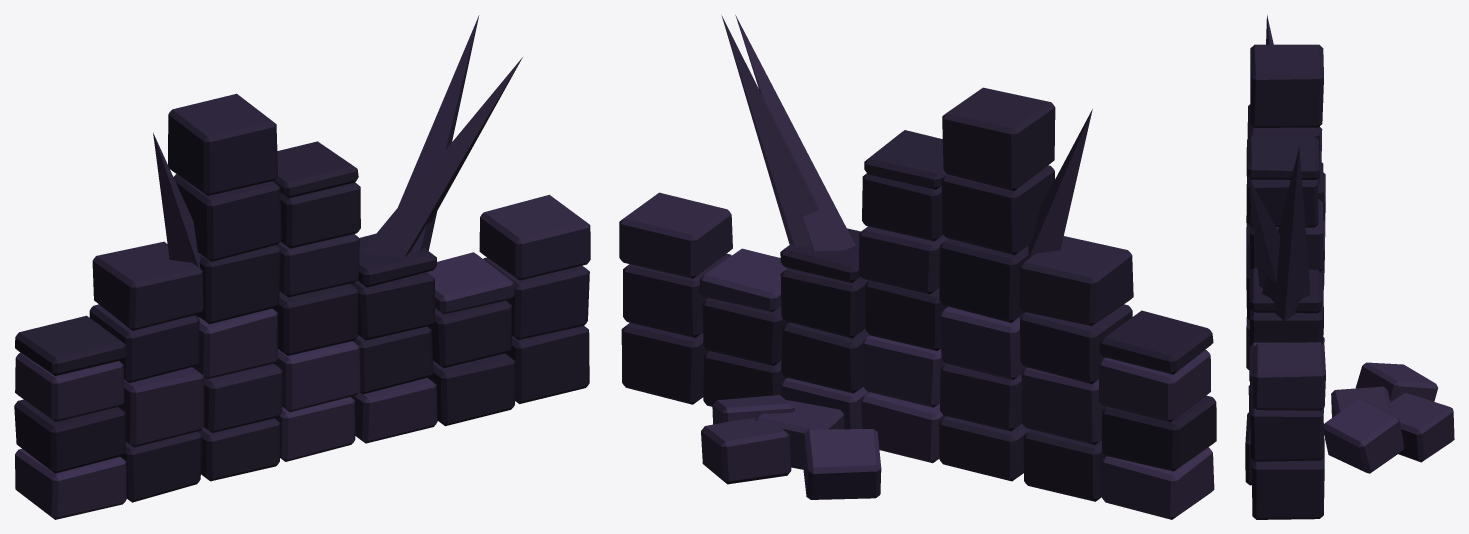
File: inc_umbral_muro.fbx
The picture shows the model from 3 angles, left to right: view 1: azimuth 30°, elevation 25°; view 2: azimuth 150°, elevation 25°; view 3: azimuth 270°, elevation 25°; orthographic projection. The views are drawn at different scales.
Visible parts, largest first — view 1: inc_umbral_muro; view 2: inc_umbral_muro; view 3: inc_umbral_muro.
Part boxes in pixels (x1,y1,x2,y2): inc_umbral_muro: [14, 15, 590, 519]; inc_umbral_muro: [619, 15, 1216, 519]; inc_umbral_muro: [1245, 15, 1454, 519].
Bounding box in the file's own units: 13.98 × 9.44 × 5.19.
